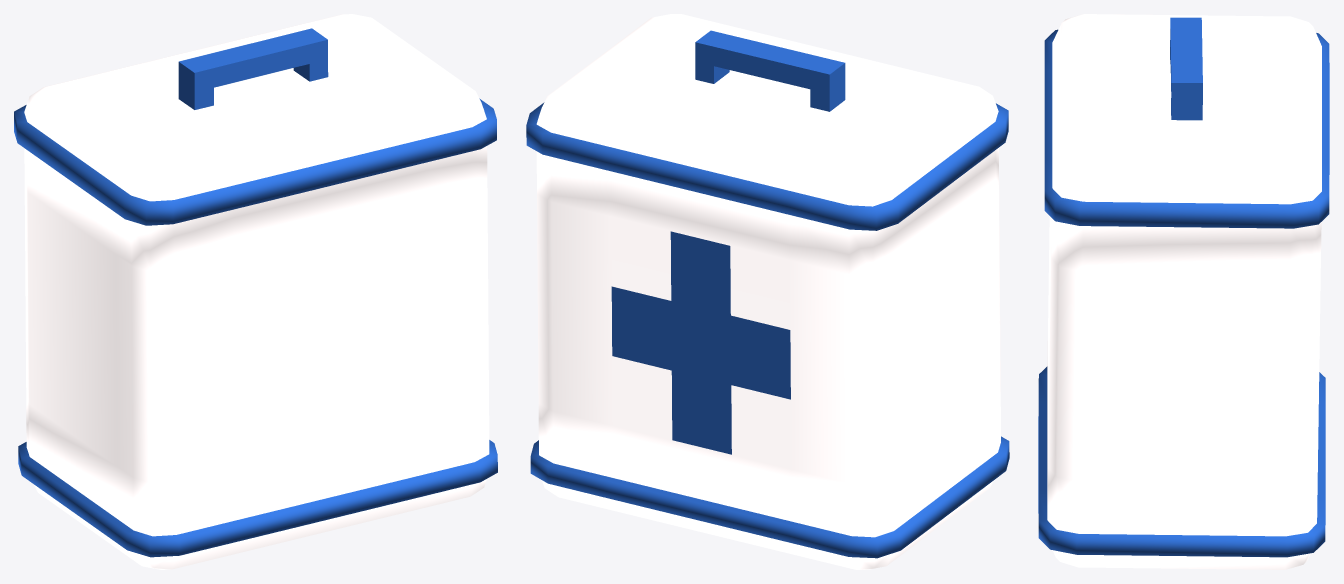
Rendered from MedicBox.fbx.
The picture shows the model from 3 angles, left to right: view 1: azimuth 30°, elevation 25°; view 2: azimuth 150°, elevation 25°; view 3: azimuth 270°, elevation 25°; orthographic projection.
Visible parts, largest first — view 1: Cube.035; view 2: Cube.035; view 3: Cube.035.
Boxes of the visible parts, x1,y1,x2,y2 form: Cube.035: (14, 14, 497, 569); Cube.035: (526, 14, 1009, 569); Cube.035: (1038, 14, 1329, 569).
Bounding box in the file's own units: 96.62 × 112 × 66.21.
